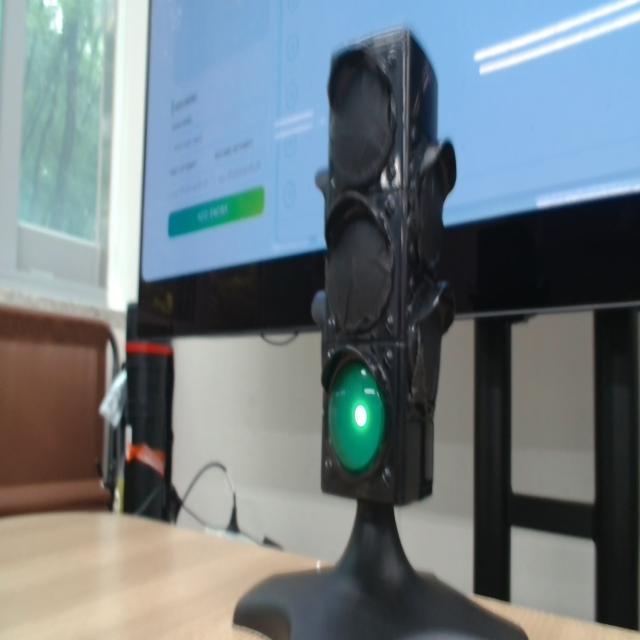green_light: (328, 361, 385, 474)
